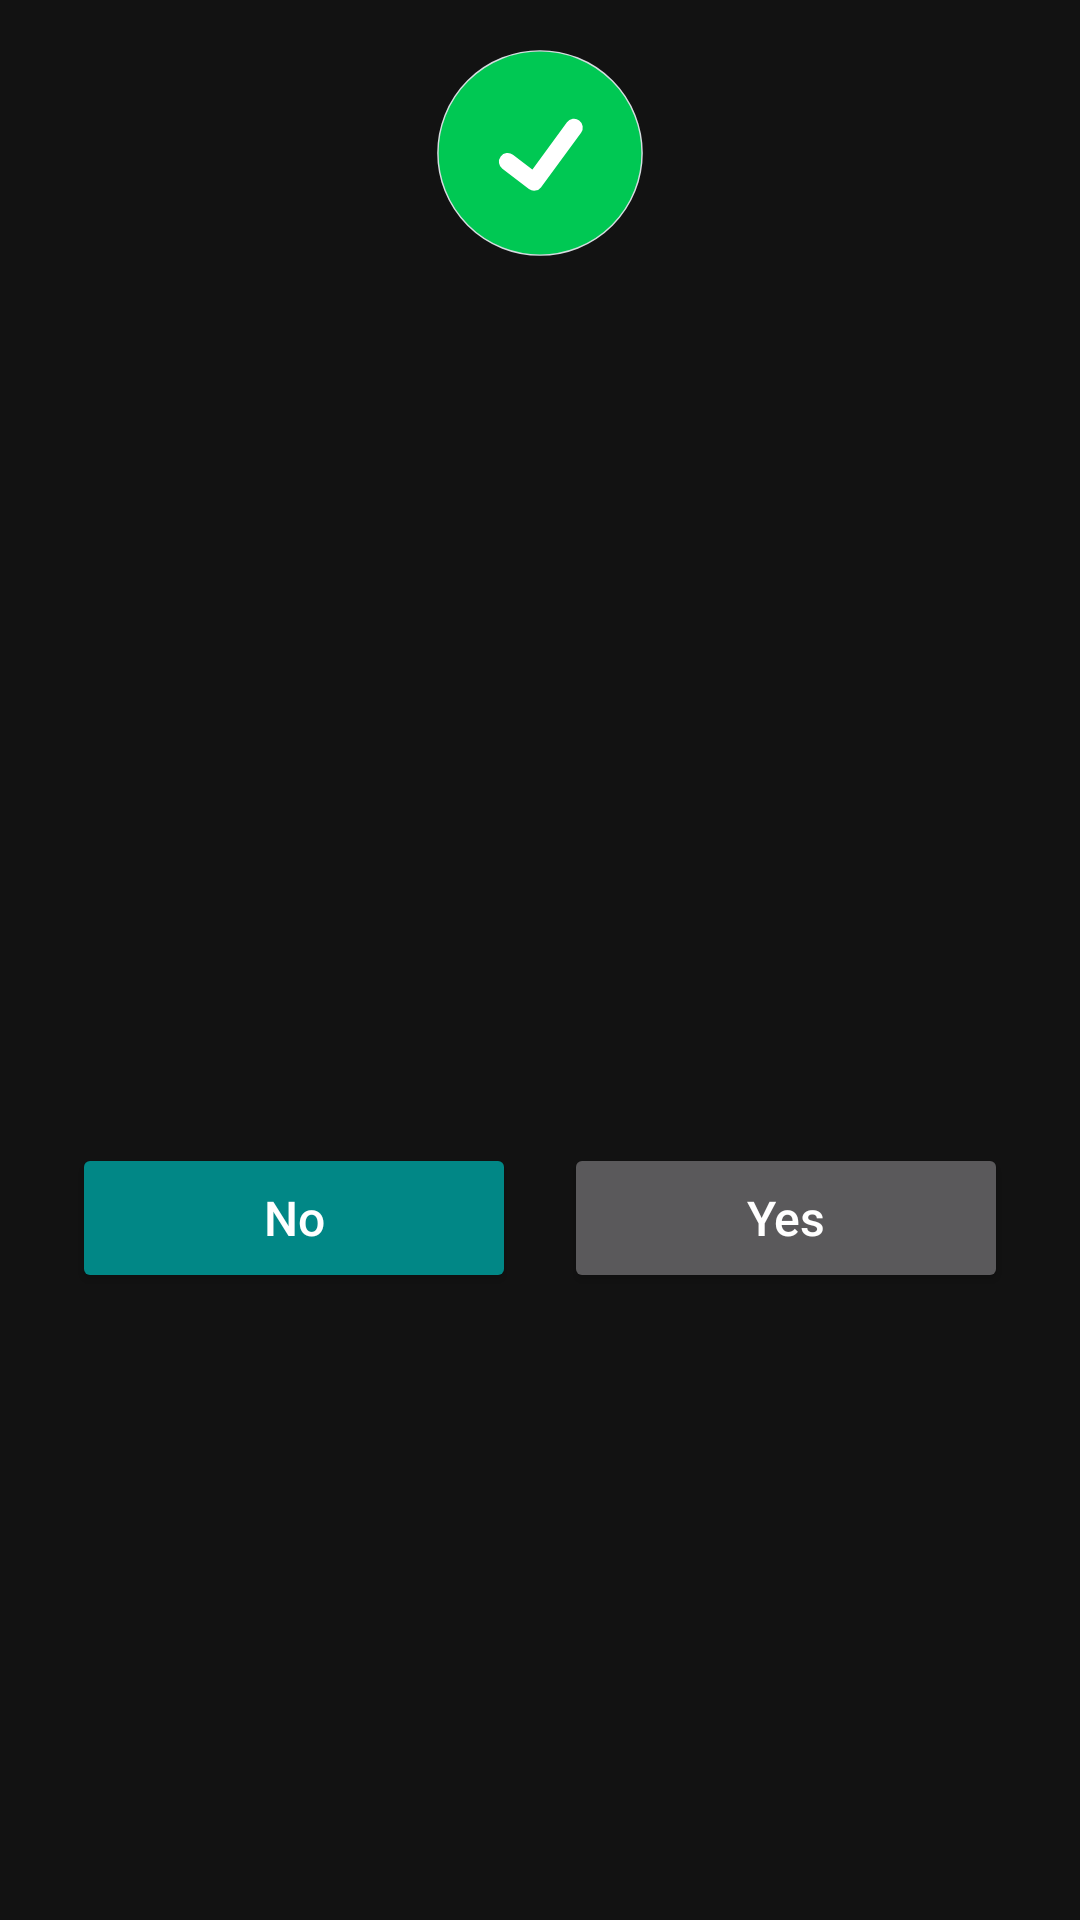

Icons on this 1080px x 1920px Android screen, each with the point to tap as (x=x, y=y):
success: (x=540, y=153)
